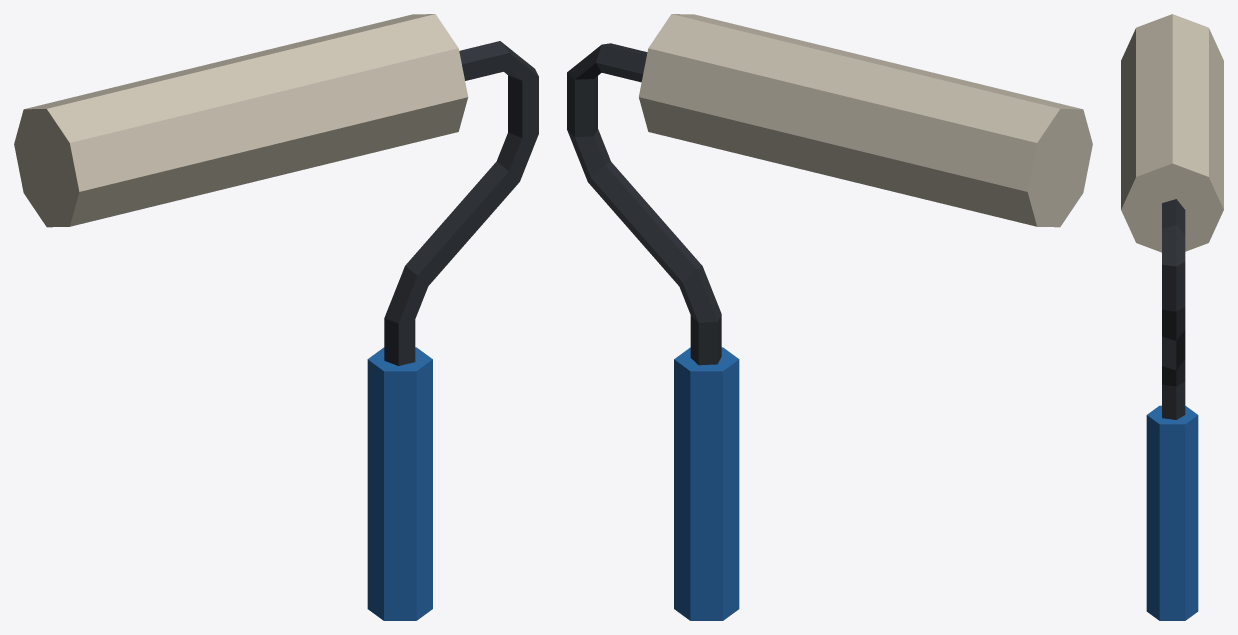
Rendered from paint-roller-4ad5c2.glb.
3 views of the same model, side by side, from view 1: azimuth 30°, elevation 25°; view 2: azimuth 150°, elevation 25°; view 3: azimuth 270°, elevation 25° (orthographic). The views are drawn at different scales.
Size of the model in its own units: 0.2776 by 0.317 by 0.064.
